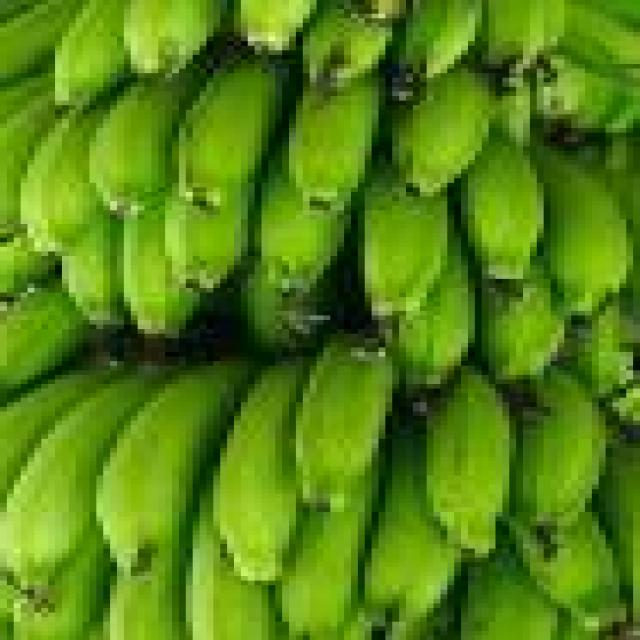banana: (0, 371, 158, 598), (97, 362, 247, 580), (214, 362, 309, 580), (365, 426, 461, 626), (296, 334, 399, 507), (276, 467, 378, 635), (179, 55, 289, 210), (427, 366, 516, 557), (537, 147, 633, 315), (90, 69, 199, 214), (358, 165, 454, 324), (510, 371, 605, 530), (0, 371, 110, 507), (186, 499, 289, 639), (255, 156, 350, 297), (290, 74, 385, 214), (393, 69, 495, 196), (517, 512, 626, 630), (21, 106, 103, 255), (393, 238, 474, 388), (462, 133, 543, 278), (14, 526, 110, 639), (124, 202, 199, 338), (475, 266, 564, 379), (0, 284, 89, 393), (104, 531, 192, 639), (166, 188, 254, 292), (241, 261, 337, 356), (462, 544, 557, 639), (393, 0, 481, 100), (303, 0, 392, 91), (0, 92, 55, 237), (537, 55, 639, 132), (56, 0, 130, 105), (124, 0, 227, 73), (599, 439, 639, 626), (599, 133, 639, 315), (62, 211, 123, 329), (565, 298, 633, 397), (0, 0, 82, 82), (482, 0, 571, 73), (565, 0, 639, 82), (234, 0, 323, 54), (0, 234, 55, 297), (0, 69, 55, 123), (496, 78, 536, 146), (317, 604, 371, 639), (345, 0, 412, 22), (585, 0, 639, 27), (558, 613, 598, 639), (0, 0, 41, 22)
